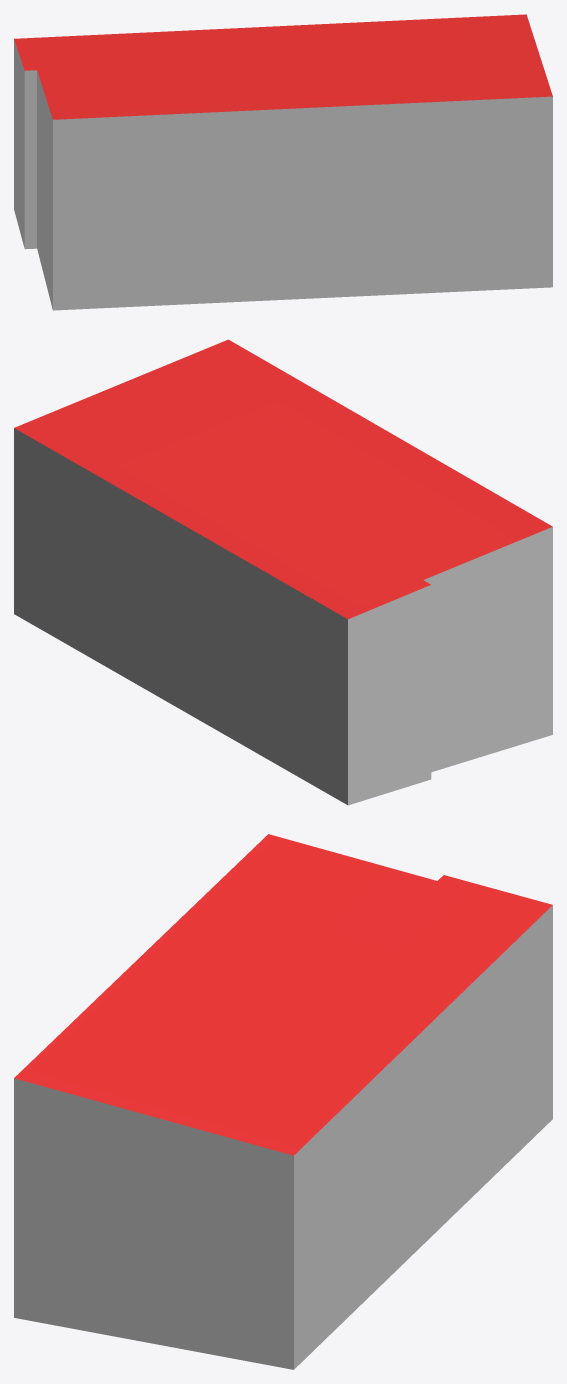
File: DEBY_LOD2_4906973.dae
3 views of the same model, one above another, from view 1: azimuth 30°, elevation 25°; view 2: azimuth 150°, elevation 25°; view 3: azimuth 270°, elevation 25° (orthographic). The views are drawn at different scales.
Bounding box in the file's own units: 11.83 × 9.09 × 4.46.
